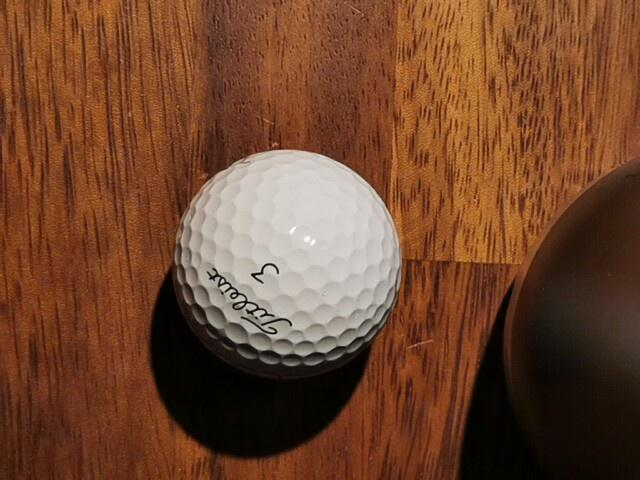Ball: (172, 149, 401, 380)
Titleist: (206, 268, 293, 335)
